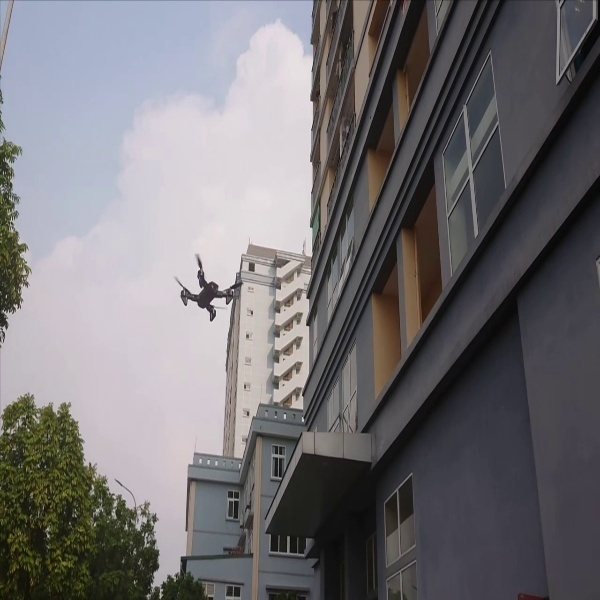drone: (167, 245, 246, 331)
